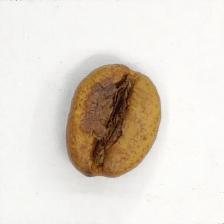NG: (84, 73, 140, 170)
